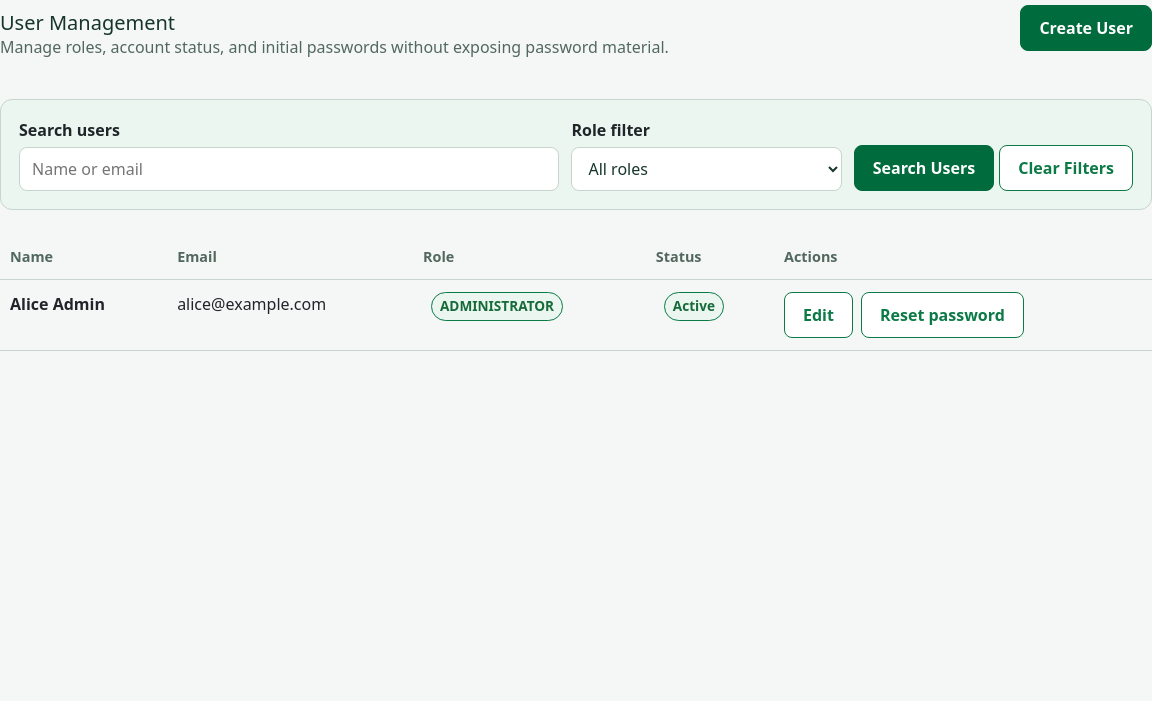
it: Lab 3 Administrator User Management › explains and prevents deactivating the only active Administrator
Expected: the heading "User Management" is shown, [0,9,175,36]
Step 1. Click the button "Edit" → (818,315), box [784,292,853,338]
(page scrolled)
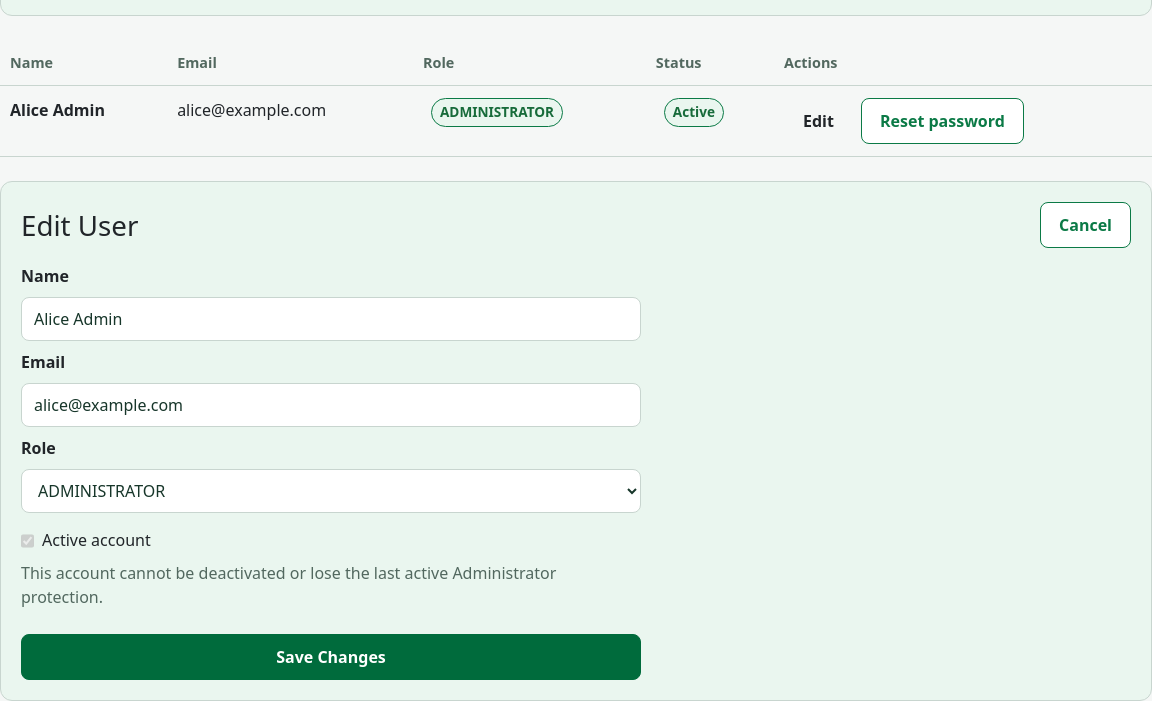
Expected: the text "last active Administrator protection" is shown, [21,562,556,608]
Expected: the checkbox labelled "Active account" is disabled, [21,531,34,551]
Expected: the dropdown labelled "Role" is disabled, [21,469,641,513]
